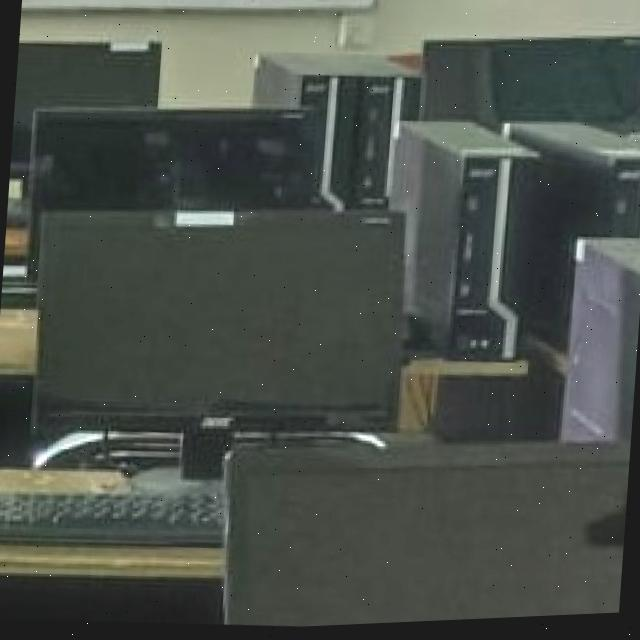offscreen: (228, 440, 630, 629), (36, 213, 401, 418), (35, 110, 319, 217), (10, 43, 160, 162)
